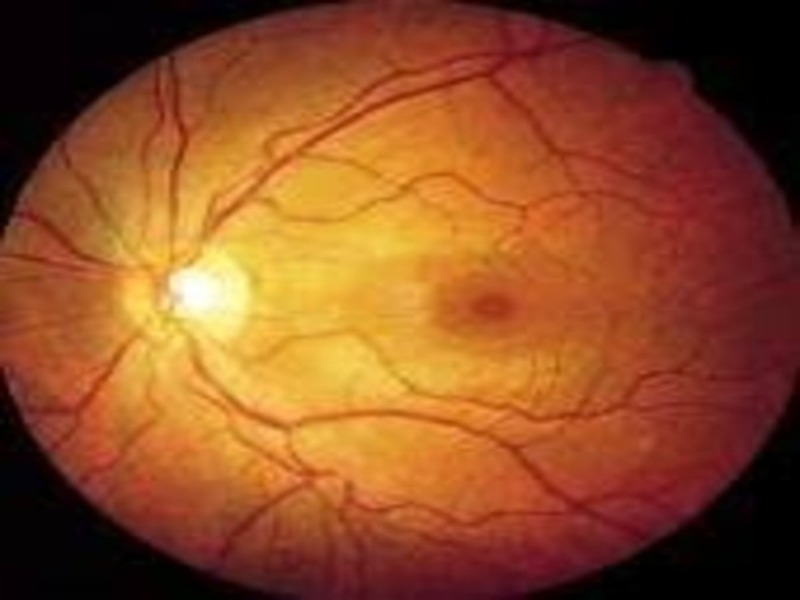Optic Cup: (169, 273, 218, 312)
Optic Disc: (113, 243, 253, 340)
